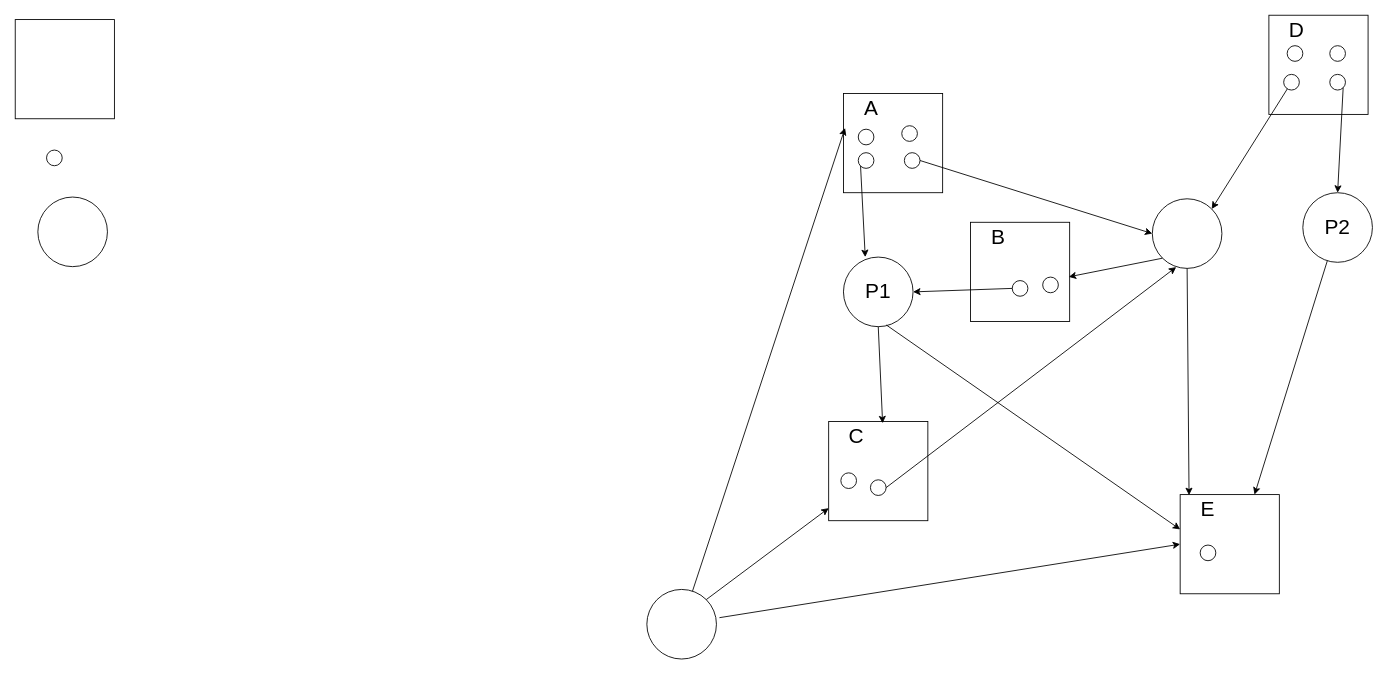
Image size: 1388x674. Some labels were removed from this diagram. Here are the shapes that lost their labels. From the top down, the centre of each, then its label:
At pixel 1186 233: "PO".
At pixel 681 624: "P3".
